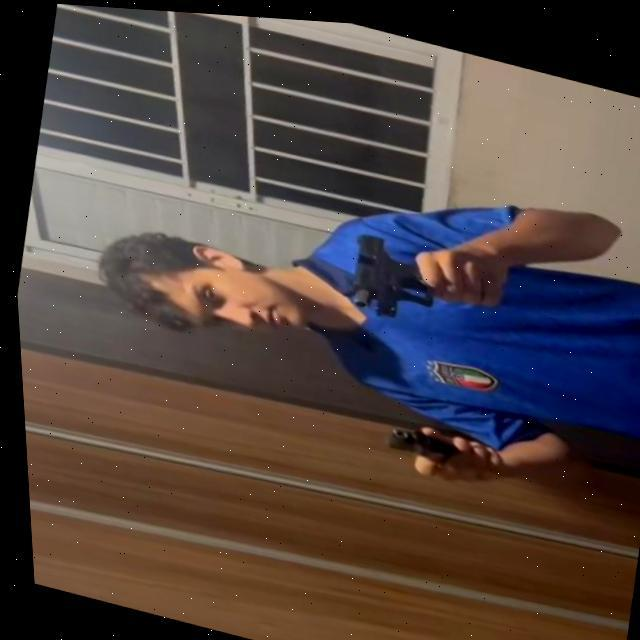gun: (334, 223, 446, 325), (368, 415, 457, 468)
